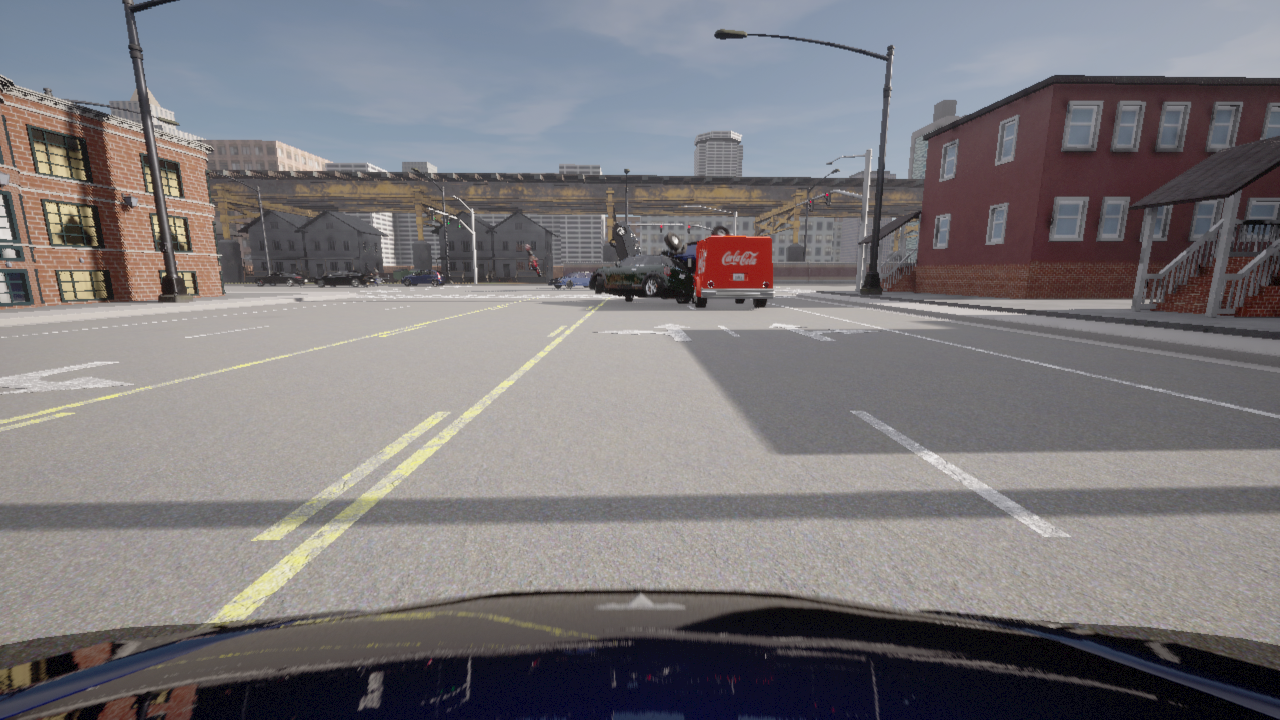cyclist: (0, 588, 1279, 719), (687, 236, 774, 307), (589, 254, 694, 303), (659, 225, 729, 275), (609, 221, 640, 261), (314, 270, 374, 286), (255, 271, 308, 286), (401, 269, 446, 285), (548, 272, 592, 288), (525, 244, 541, 276), (375, 278, 383, 285)
